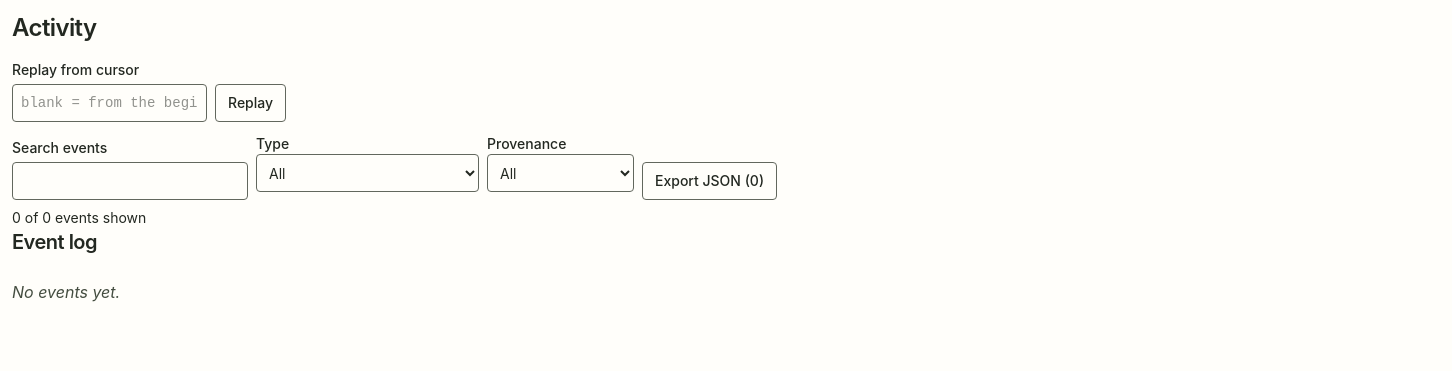
Activity › shows cursor_expired errors
The image size is (1452, 371).
Type "old" into the field labelled "Replay from cursor" at (110,103), box [12, 84, 207, 122]
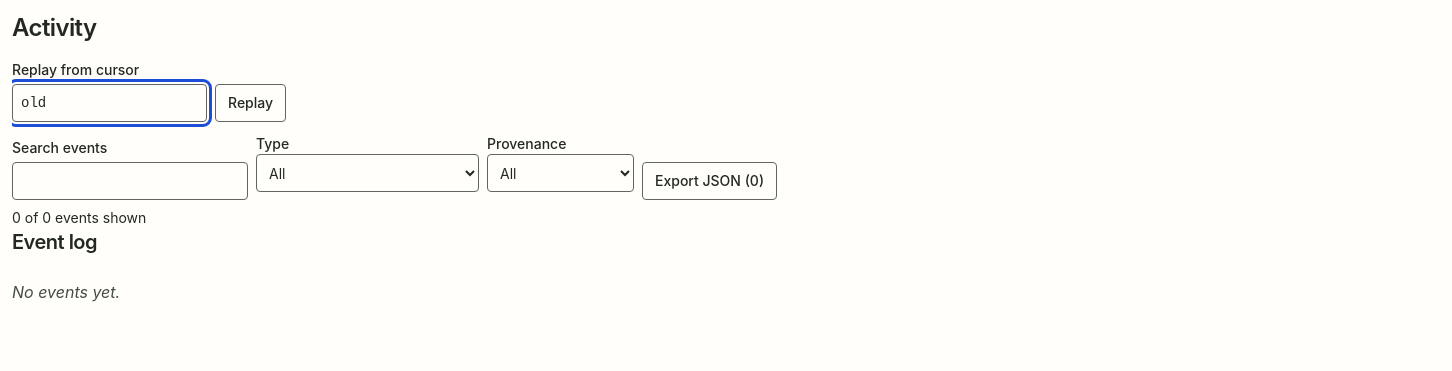
Click the button "Replay" at (251,103), box [215, 84, 286, 122]
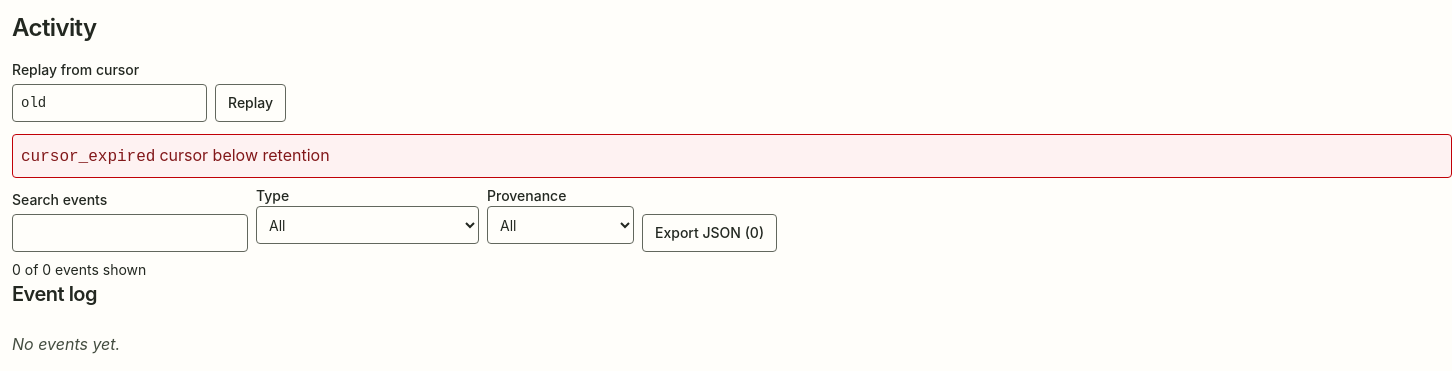
Result: the message shows "cursor_expired" at [21, 148, 155, 166]
